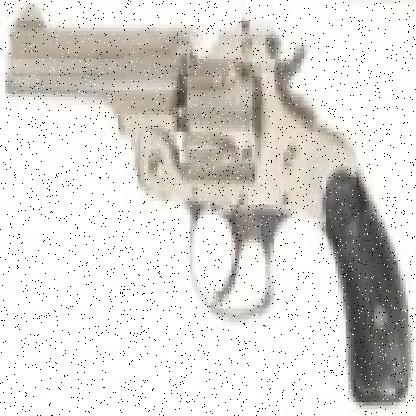pistol: (10, 3, 410, 412)
